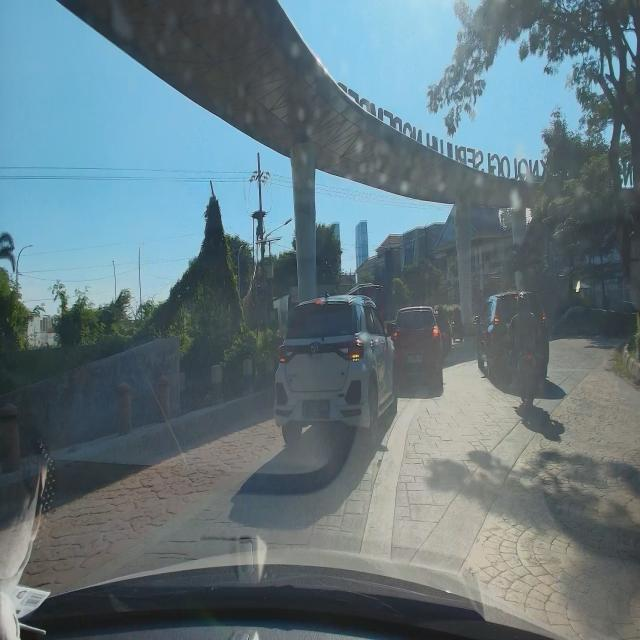car: (274, 293, 399, 452), (390, 303, 444, 396)
license-plate: (302, 400, 330, 419), (407, 354, 422, 364)
